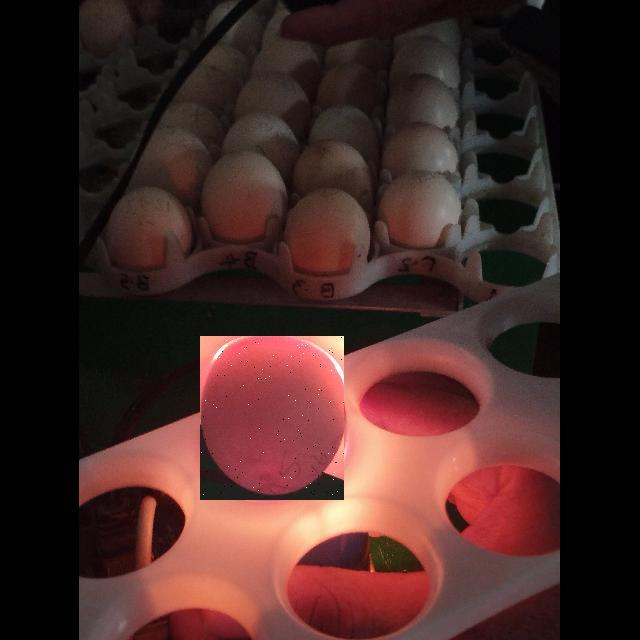Fertile: (200, 336, 344, 500)
